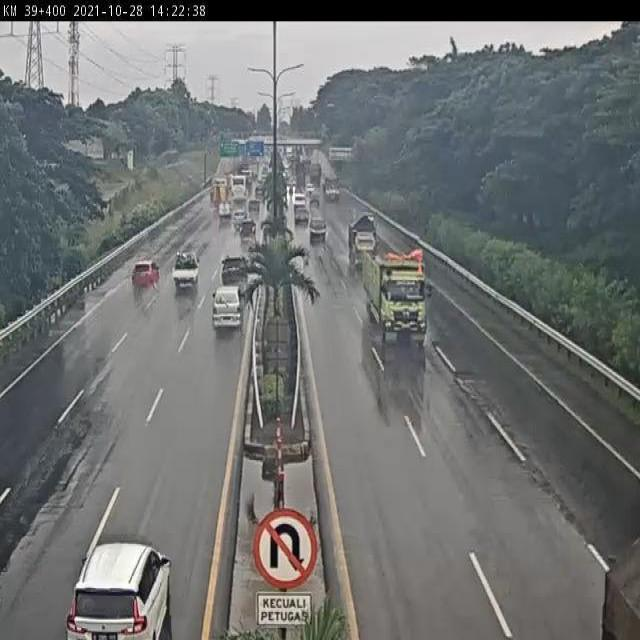big truck: (360, 249, 438, 347)
car: (77, 538, 162, 640), (213, 284, 248, 336), (173, 247, 200, 297), (129, 260, 163, 296), (220, 256, 251, 287), (234, 208, 258, 236), (310, 217, 329, 244), (293, 205, 309, 227)
small truck: (348, 215, 381, 264), (212, 184, 229, 203), (217, 200, 233, 219)
